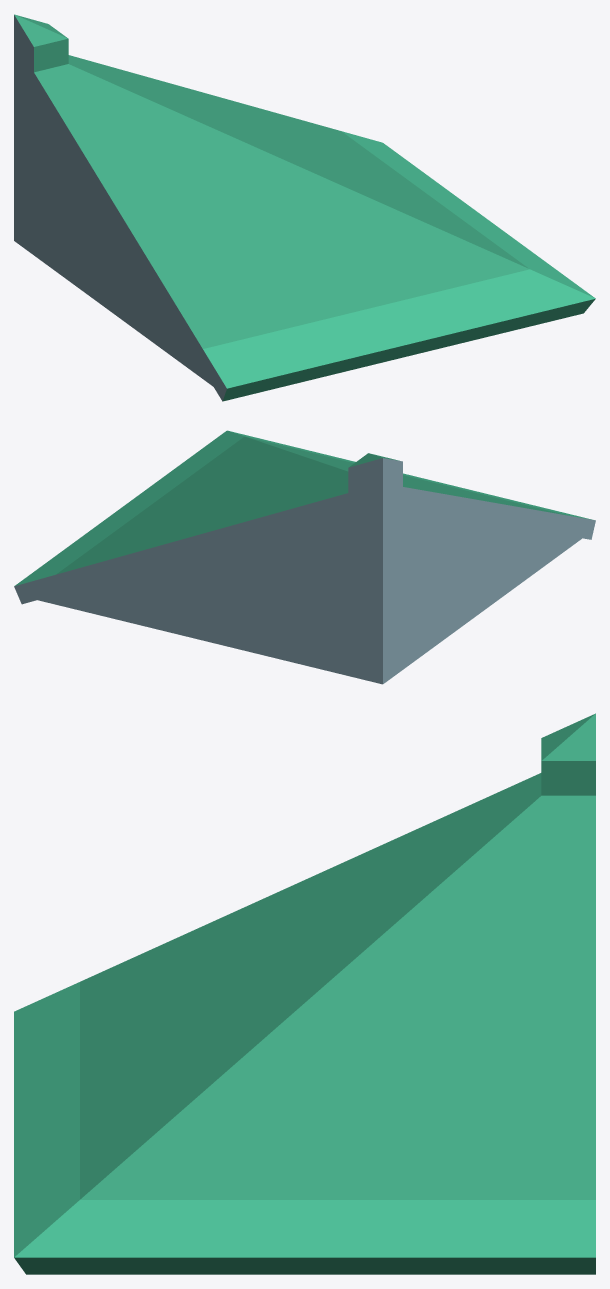
The model's file is roofCorner.dae.
The picture shows the model from 3 angles, top to bottom: view 1: azimuth 30°, elevation 25°; view 2: azimuth 150°, elevation 25°; view 3: azimuth 270°, elevation 25°; orthographic projection. The views are drawn at different scales.
Visible parts, largest first — view 1: roofCorner; view 2: roofCorner; view 3: roofCorner.
Part boxes in pixels (bbox=[...]): roofCorner: bbox=[14, 14, 595, 401]; roofCorner: bbox=[14, 430, 595, 684]; roofCorner: bbox=[14, 713, 595, 1274].
Bounding box in the file's own units: 1.07 × 0.6483 × 1.07.
